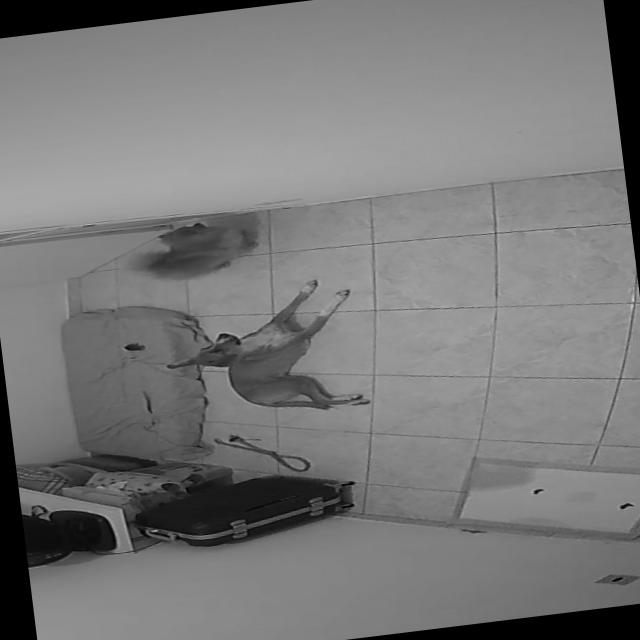laying down: (152, 269, 376, 434)
